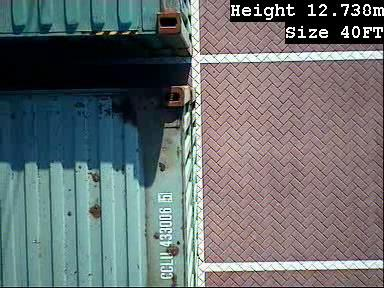groundmarker_2: (1, 56, 120, 103)
